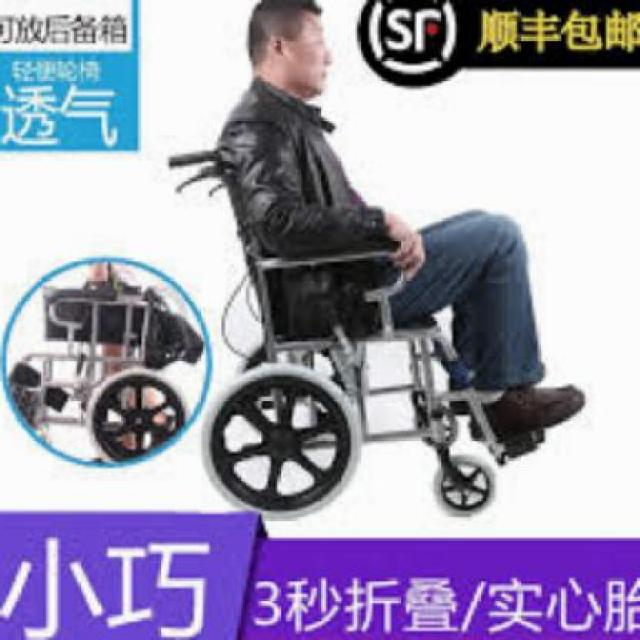wheelchairs: (206, 252, 531, 520)
